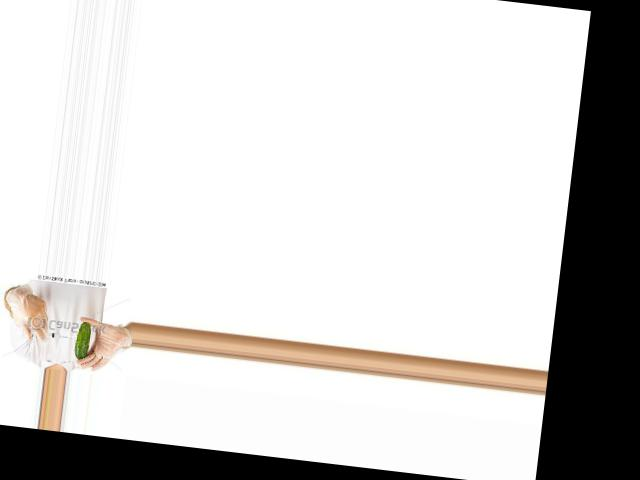cucumber: (74, 321, 92, 361)
